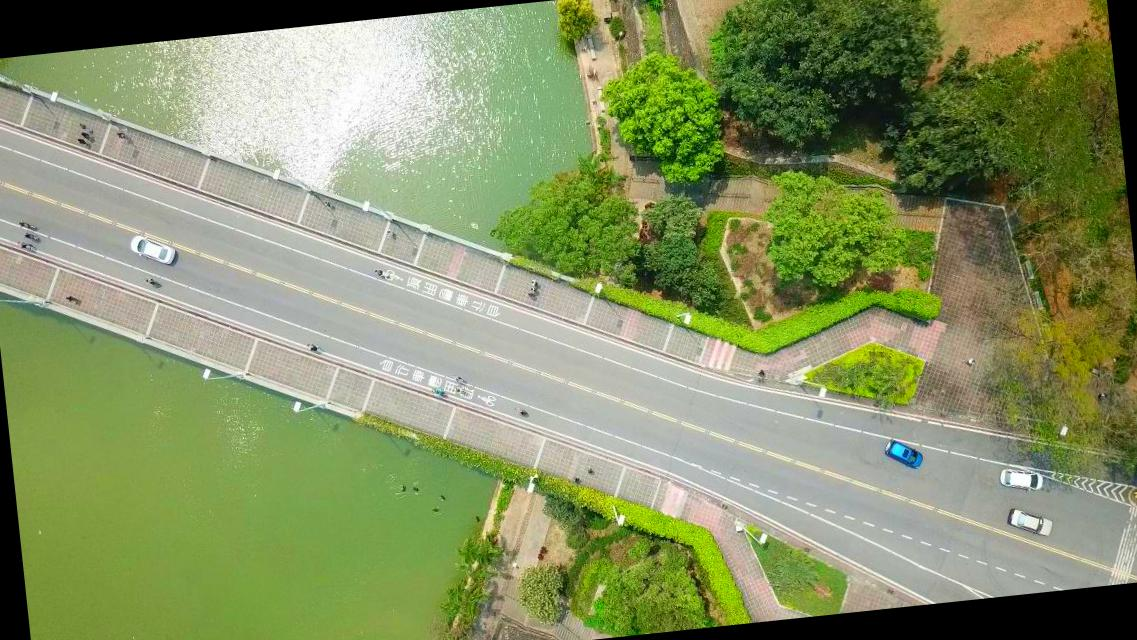vehicle: (1004, 504, 1054, 540), (130, 231, 177, 267), (884, 434, 924, 472), (998, 466, 1044, 494)
